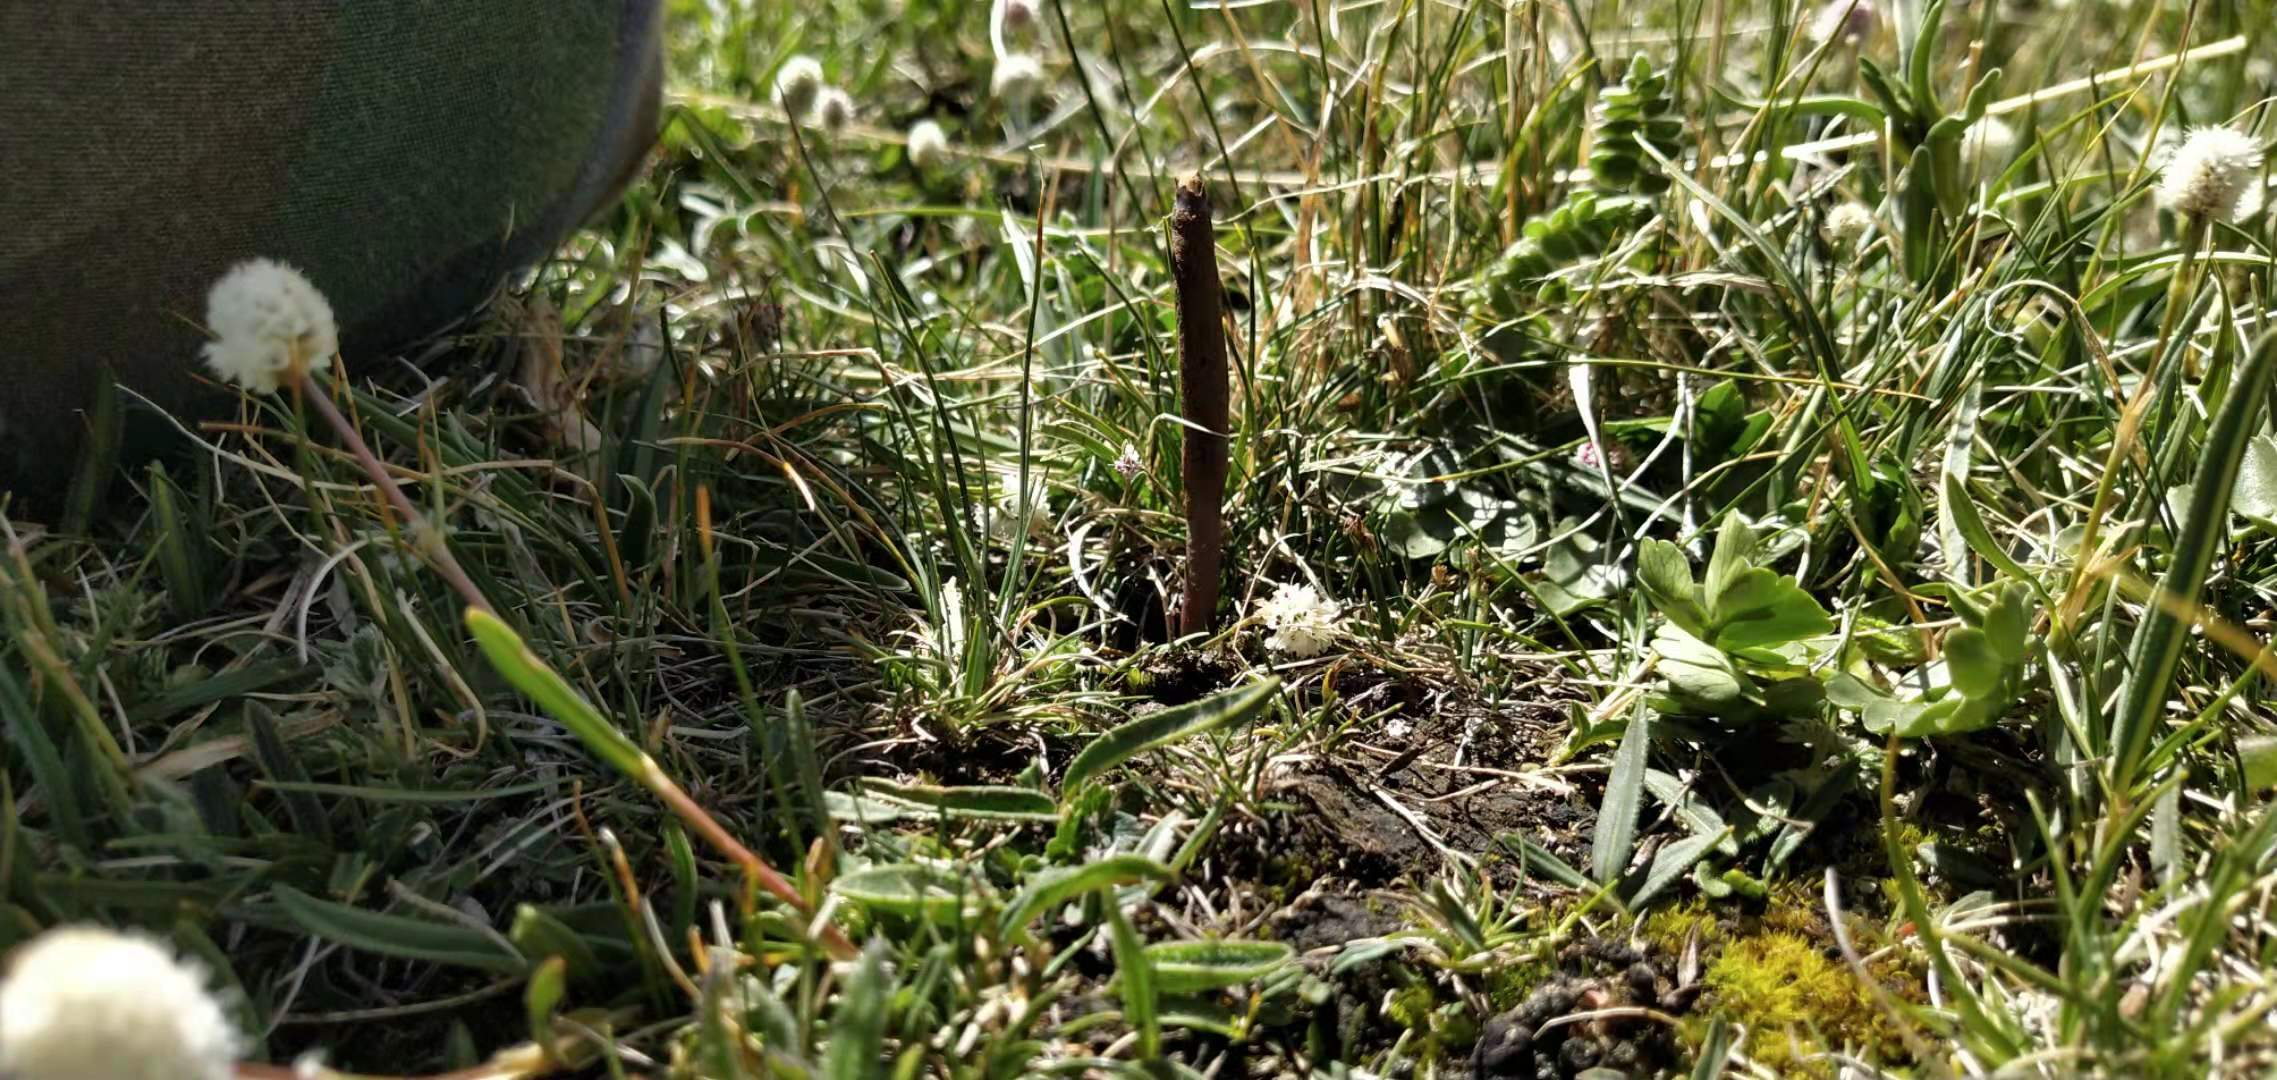w: (1170, 170, 1229, 639)
